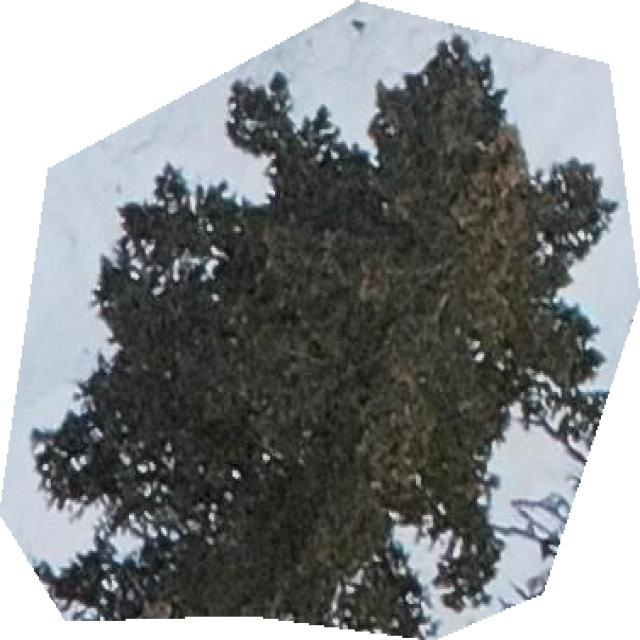spruce: (31, 36, 615, 638)
